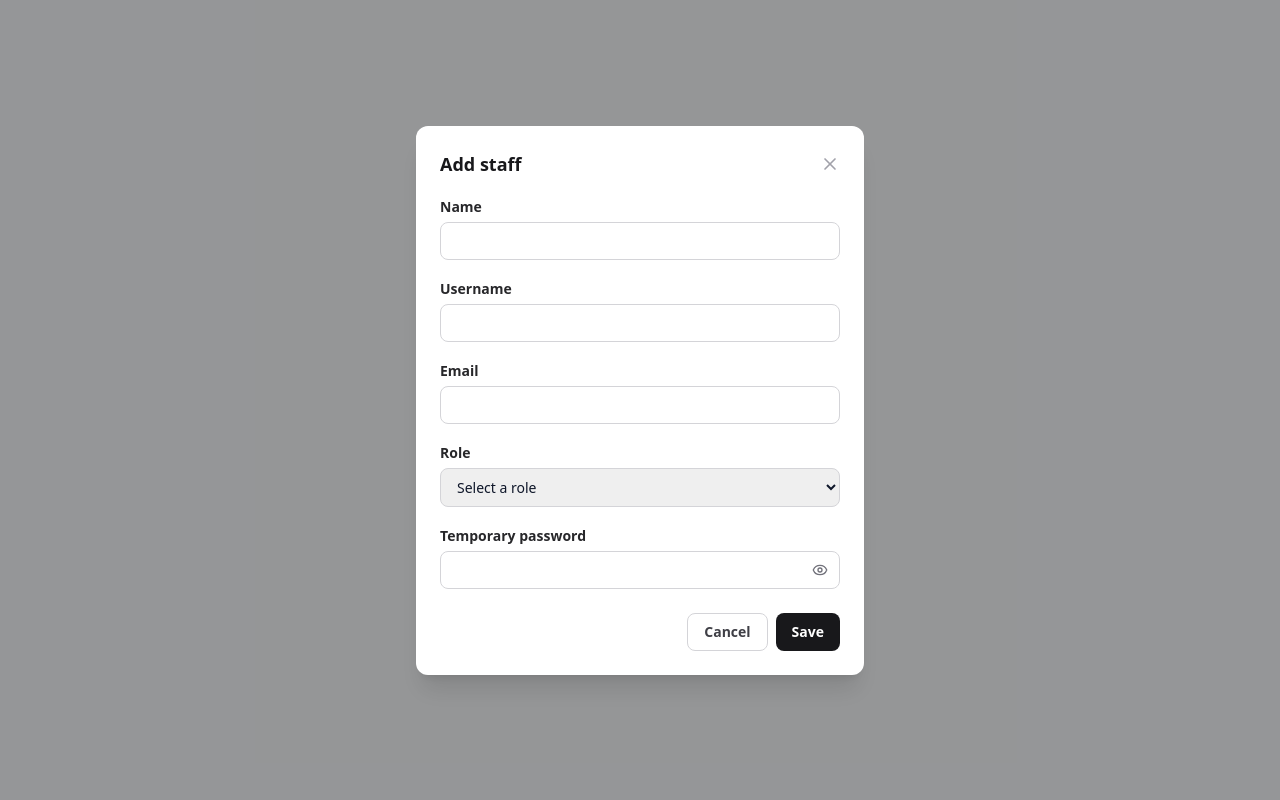
Test: StaffFormModal (IMS-07) › shows the server USERNAME_TAKEN error inline
The image size is (1280, 800).
In the field labelled "Name": (640, 240) [440, 222, 840, 260], type "Rafi Ahmed"
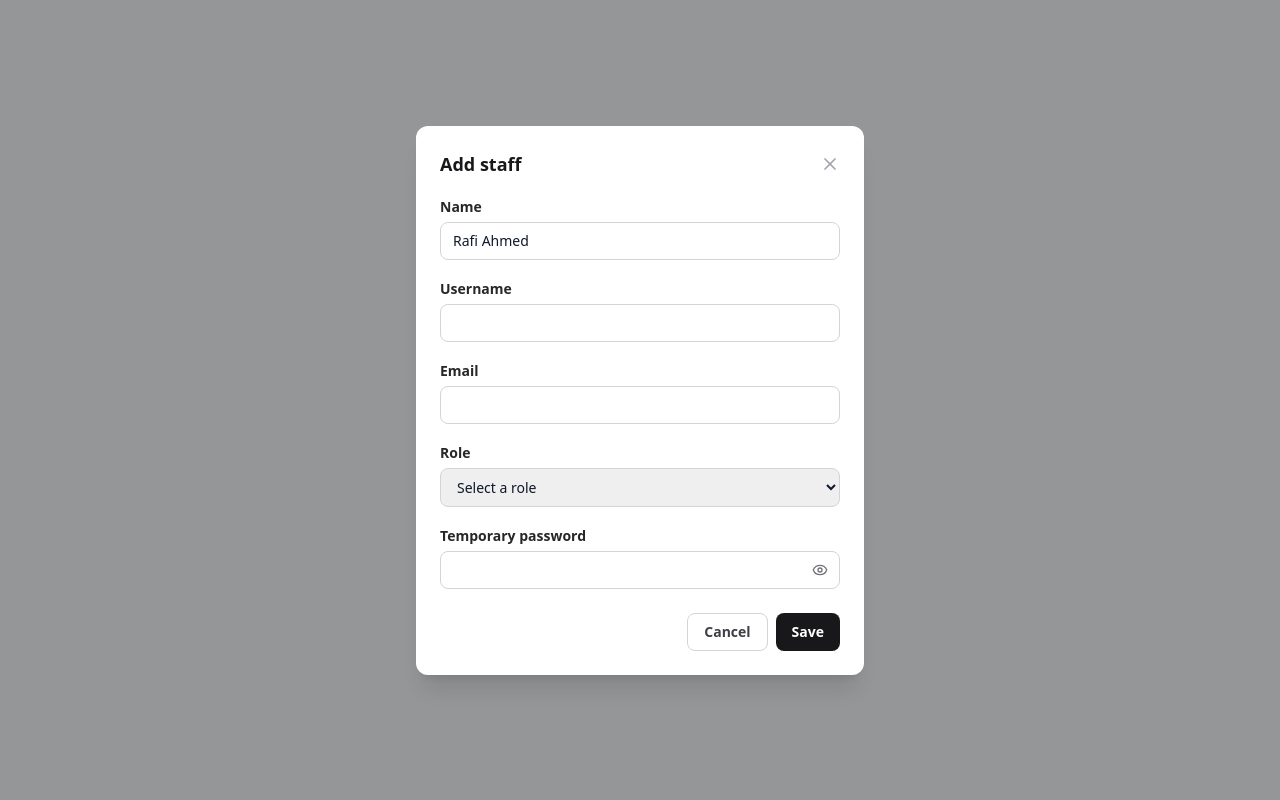
In the field labelled "Username": (640, 322) [440, 304, 840, 342], type "rafi"
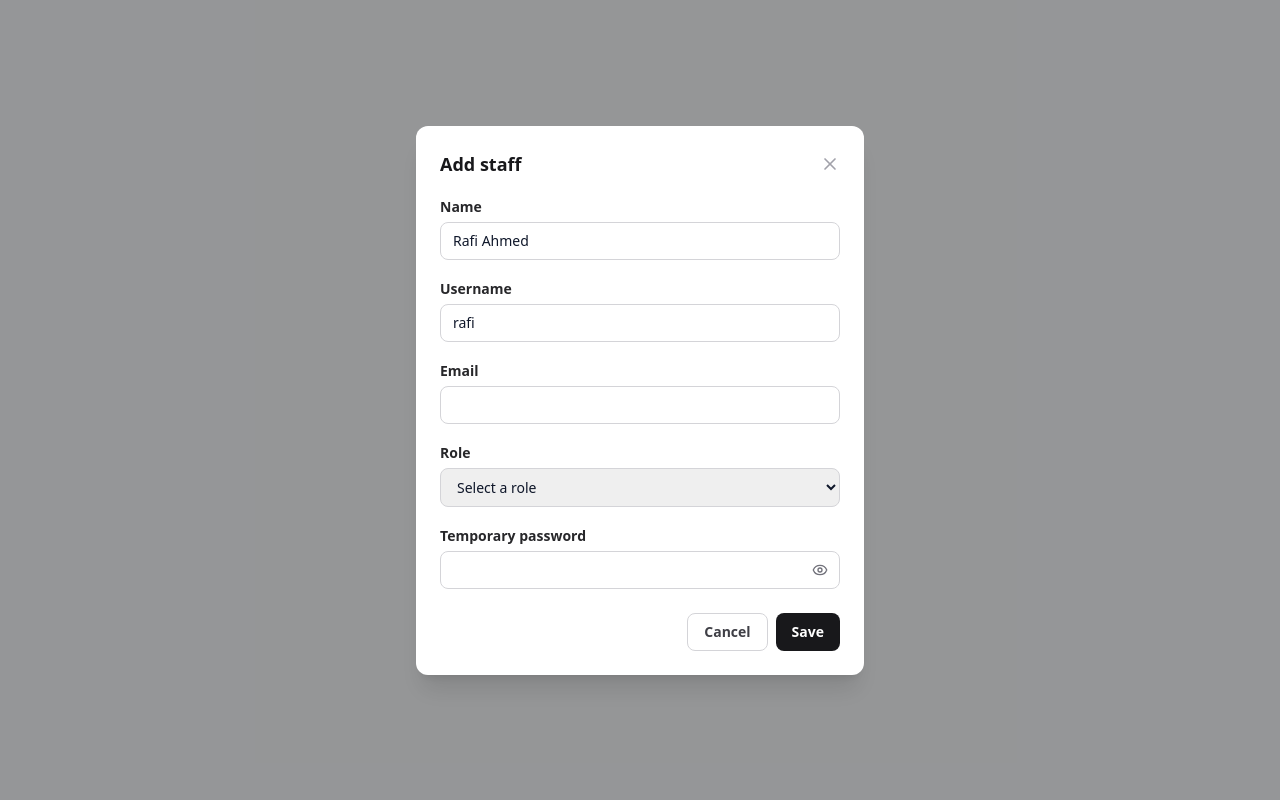
In the field labelled "Email": (640, 404) [440, 386, 840, 424], type "rafi@example.com"
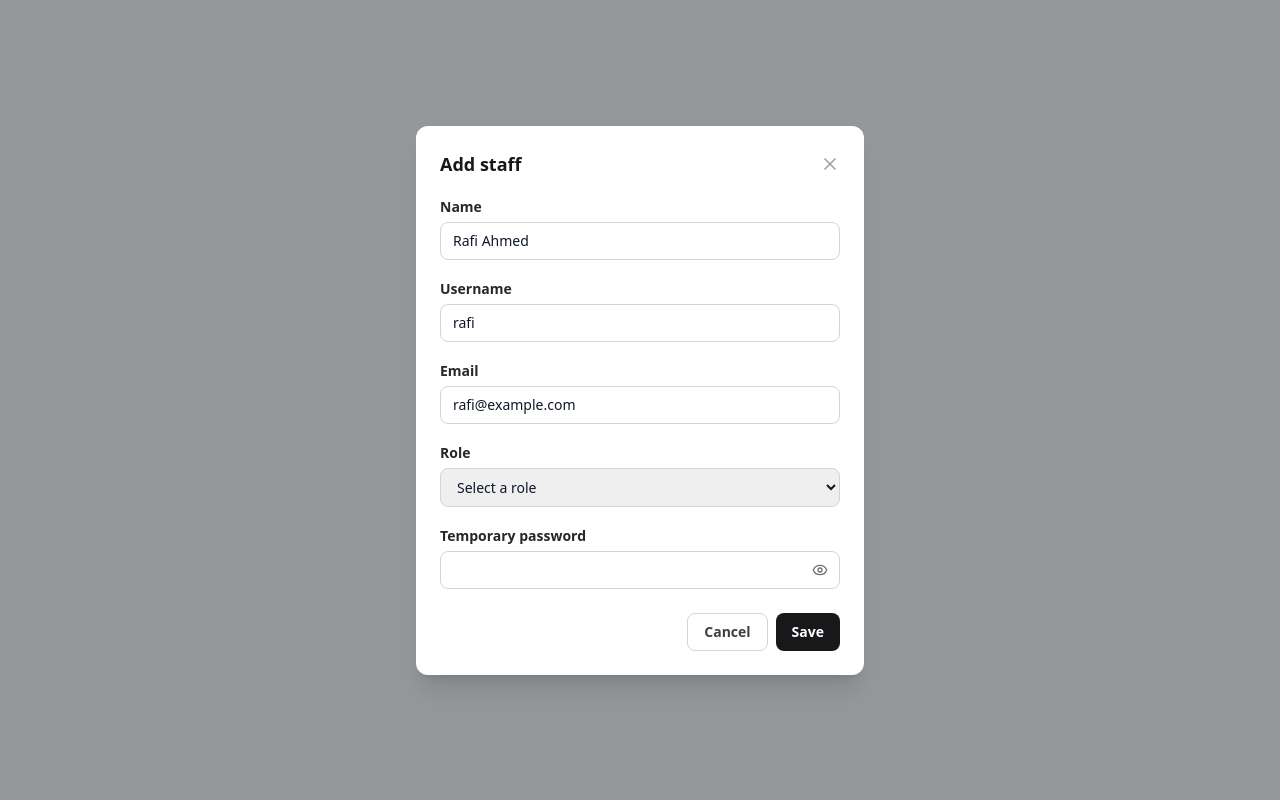
Select "Sales Staff" in the dropdown labelled "Role": (640, 487) [440, 468, 840, 506]
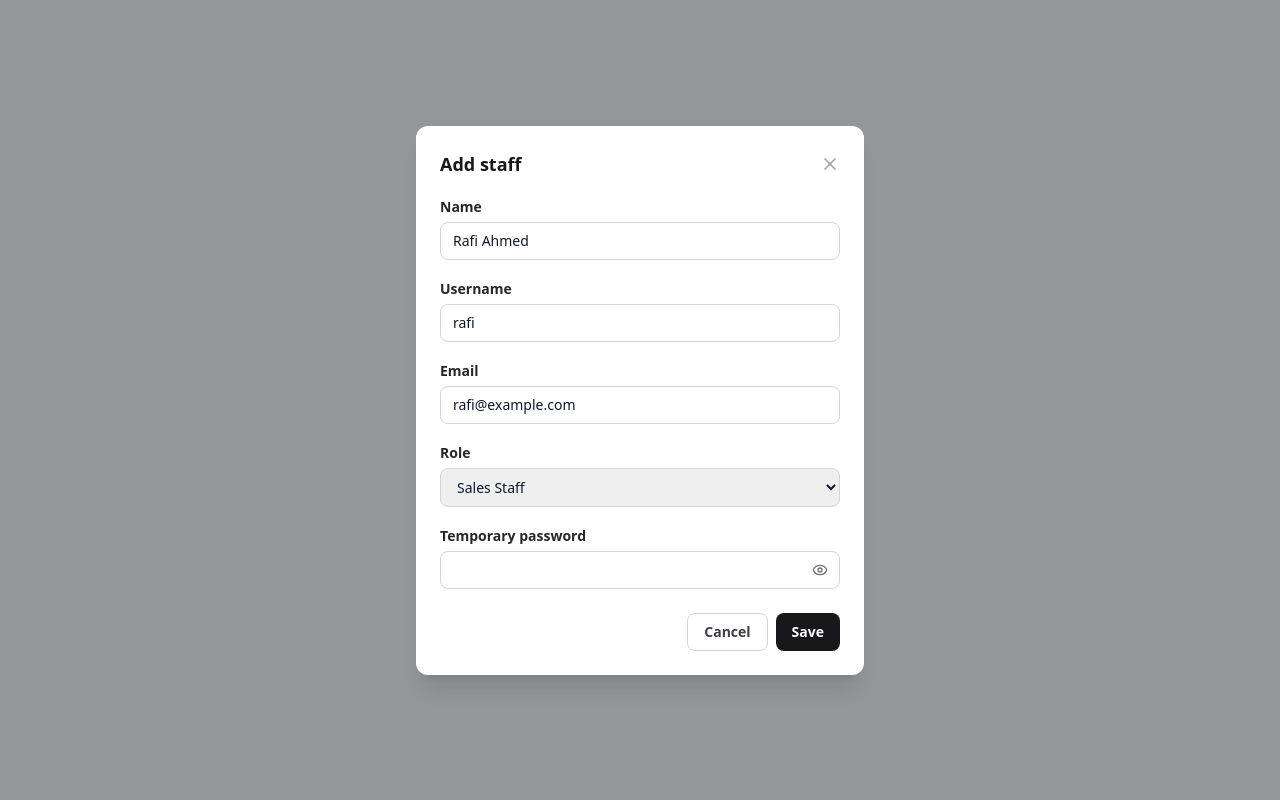
In the password field labelled "Temporary password": (640, 570) [440, 550, 840, 588], type "temporary123"
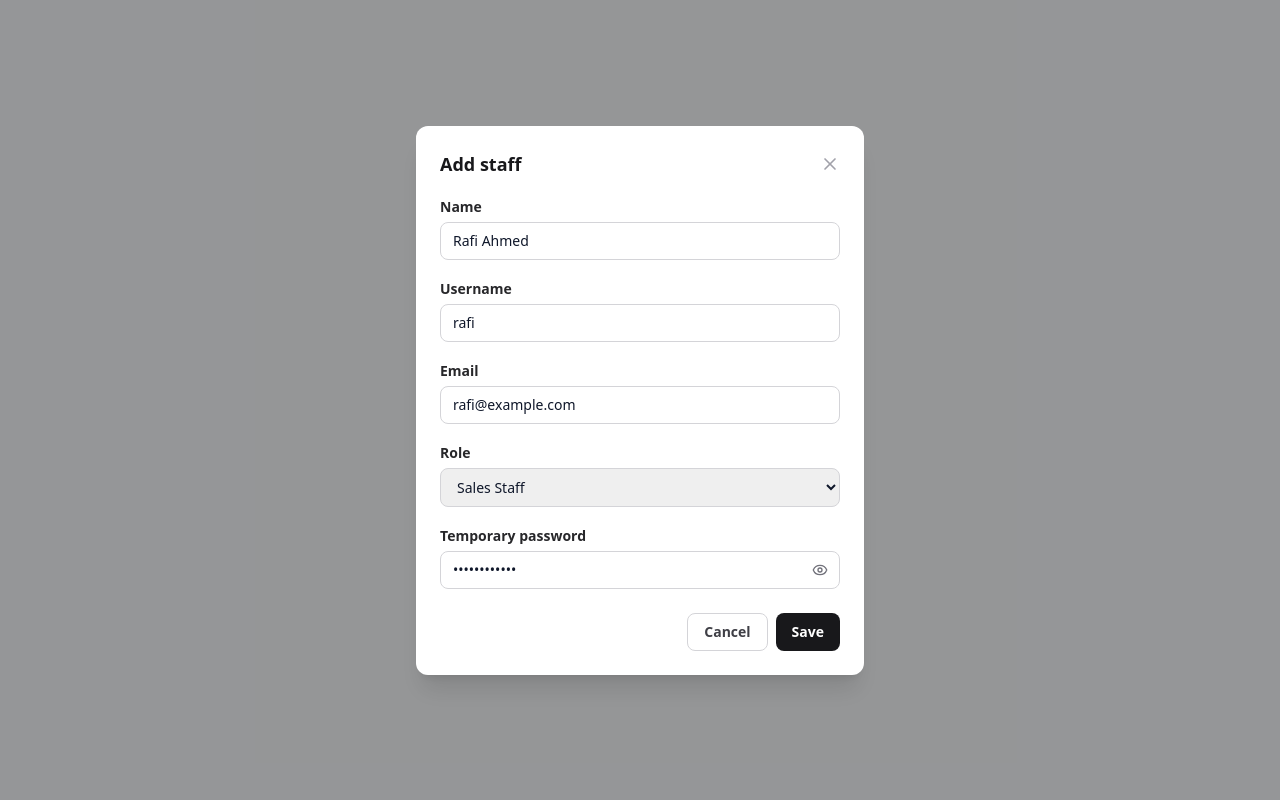
Click the button "Save": (808, 632) [776, 612, 840, 650]
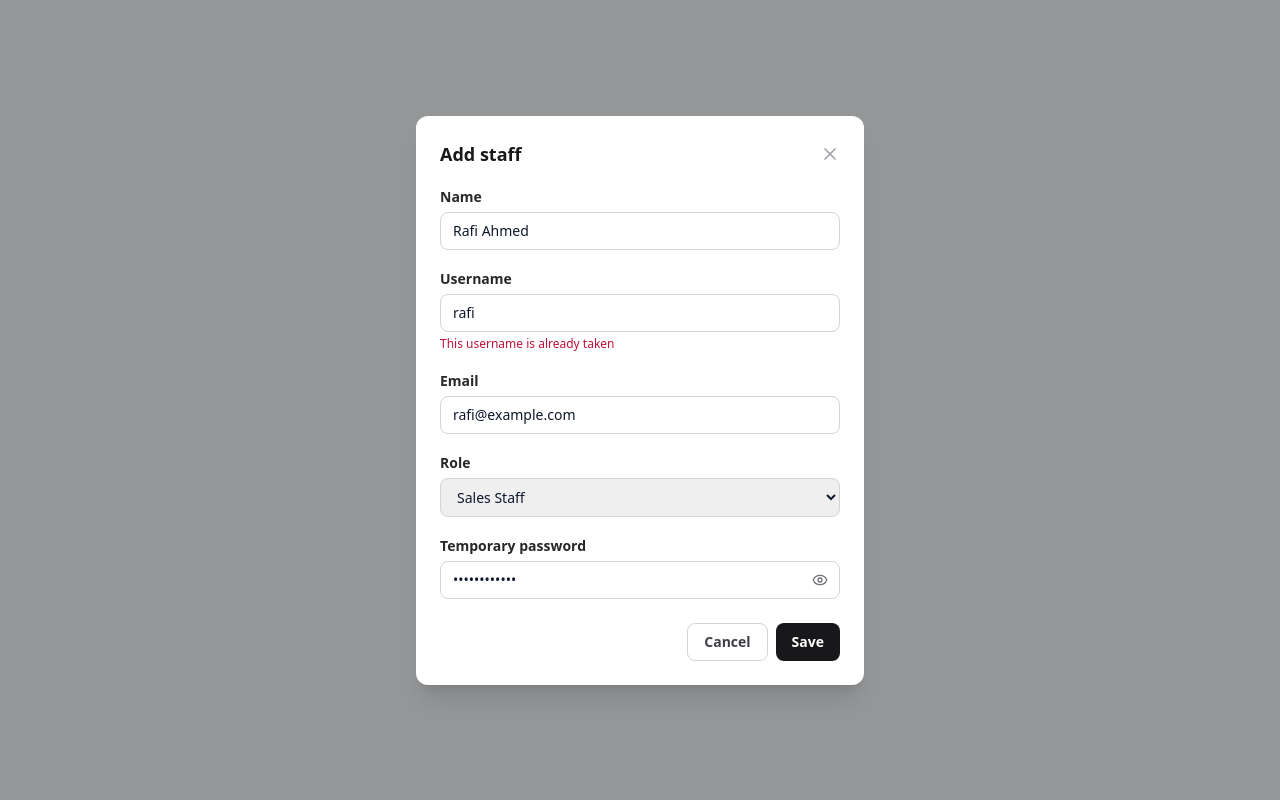
Expected: the text "This username is already taken" is shown, [440, 334, 614, 352]
